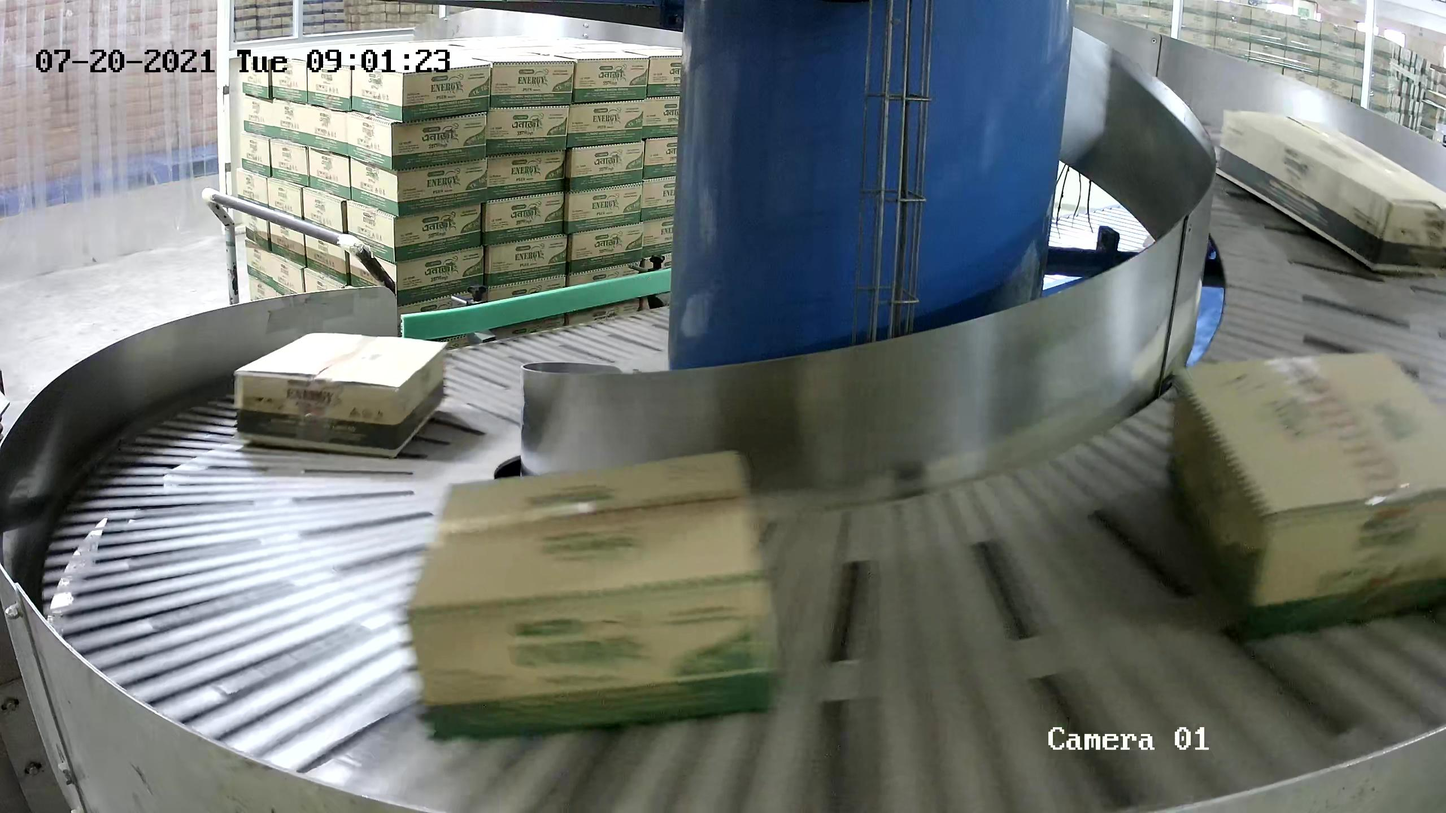Box: (403, 447, 783, 734), (1162, 347, 1446, 640), (1215, 107, 1446, 271), (232, 332, 449, 457)
